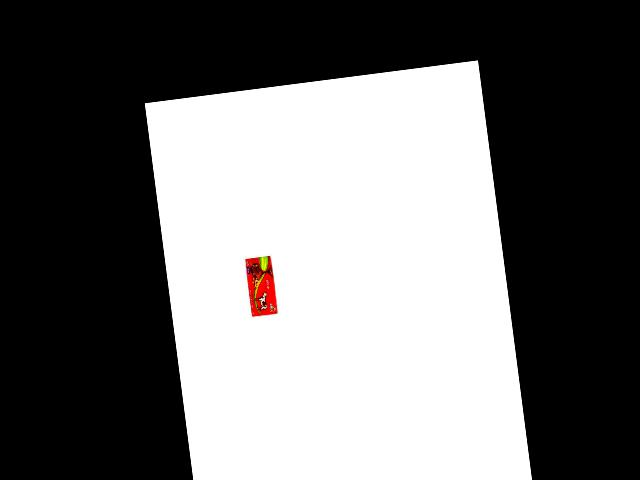chocolate: (239, 254, 280, 321)
